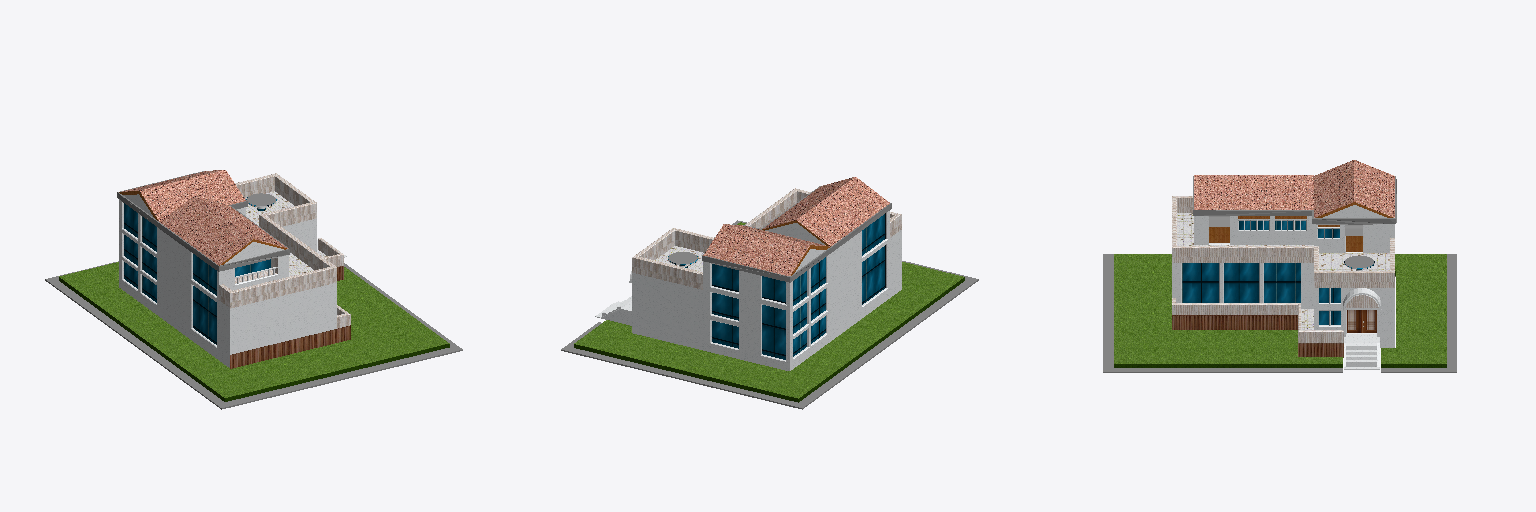
The picture shows the model from 3 angles: view 1: azimuth 30°, elevation 25°; view 2: azimuth 150°, elevation 25°; view 3: azimuth 270°, elevation 25°; orthographic projection.
Visible parts, largest first — view 1: bshu003, grass_villa1, bottom_villa1; view 2: bshu003, grass_villa1, bottom_villa1; view 3: bshu003, grass_villa1, bottom_villa1.
Boxes of the visible parts, x1=… form: bshu003: x1=117, y1=170, x2=350, y2=368; grass_villa1: x1=59, y1=262, x2=449, y2=401; bottom_villa1: x1=45, y1=261, x2=462, y2=409; bshu003: x1=595, y1=177, x2=901, y2=370; grass_villa1: x1=574, y1=222, x2=964, y2=402; bottom_villa1: x1=561, y1=220, x2=978, y2=409; bshu003: x1=1172, y1=160, x2=1396, y2=369; grass_villa1: x1=1114, y1=254, x2=1446, y2=367; bottom_villa1: x1=1103, y1=254, x2=1456, y2=372.
Bounding box in the file's own units: 117 × 54.02 × 146.
Materials: 12 (10 with a texture image).